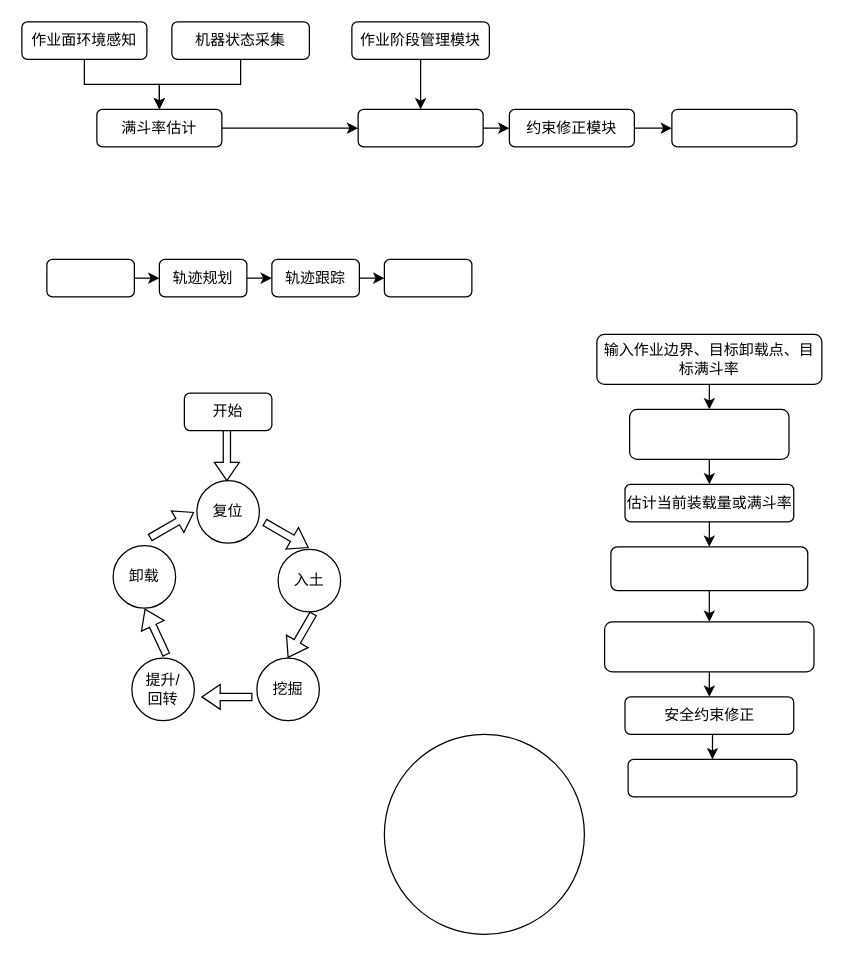
This 844x956 diagram has some shape labels left out. Each missing label, with the centre of its shape:
"FSM/BT判断当前作业阶段" goes at point 709,568.
"液压执行" goes at point 427,277.
"液压执行控制模块" goes at point 734,127.
"环境感知" goes at point 90,277.
"获取作业面环境表示和机械状态" goes at point 708,433.
"输出回转、动臂、斗杆、铲斗原始控制指令" goes at point 708,646.
"阶段条件策略模块" goes at point 420,127.
"驱动液压执行机构" goes at point 712,777.
